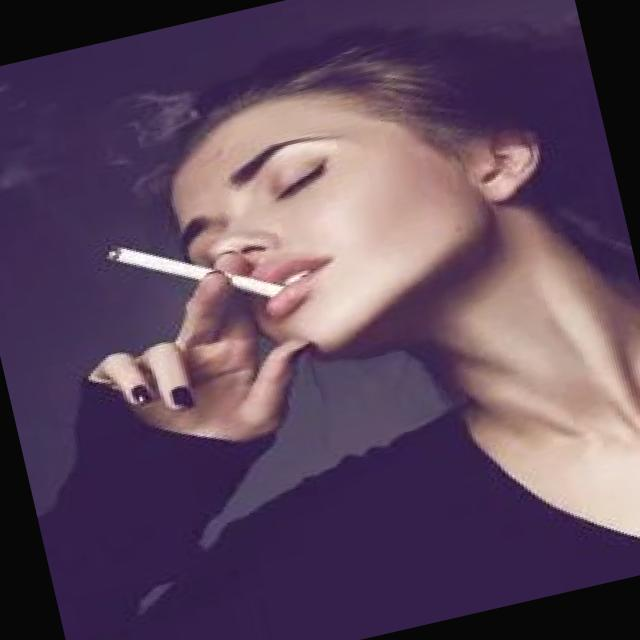smoke: (87, 208, 295, 340)
